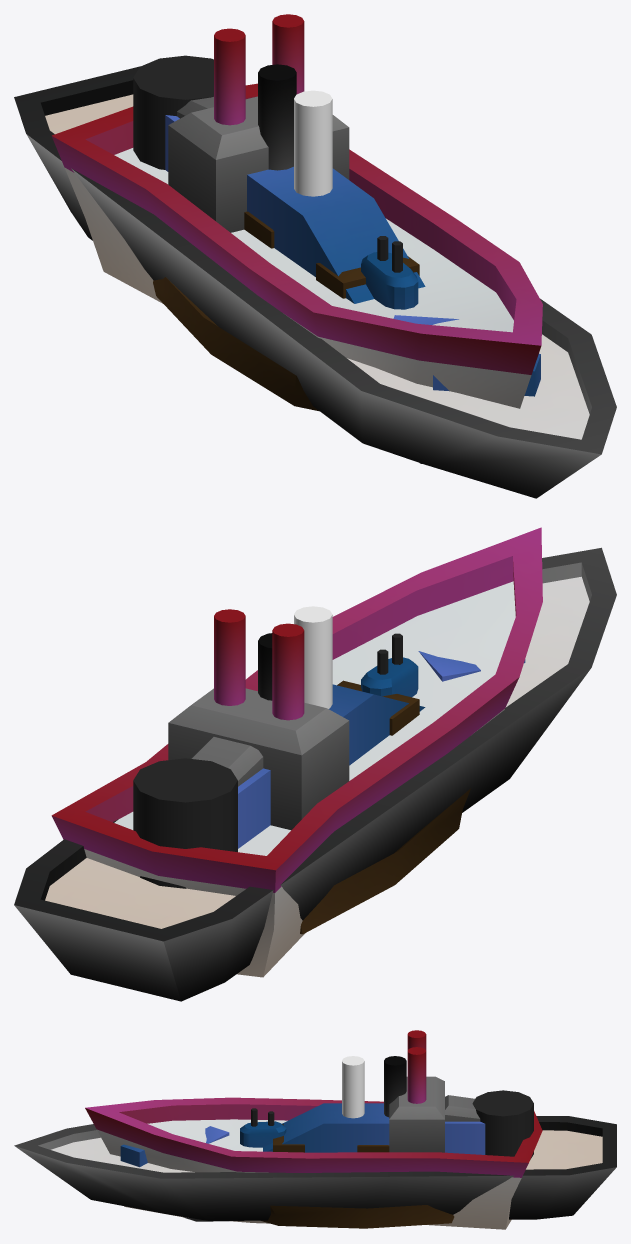
The model's file is ships.glb.
3 renders of one model, top to bottom at view 1: azimuth 30°, elevation 25°; view 2: azimuth 150°, elevation 25°; view 3: azimuth 270°, elevation 25°, orthographic. The views are drawn at different scales.
Parts seen in each view (by area): view 1: carrier, battleship, cruiser, submarine; view 2: carrier, battleship, cruiser, submarine; view 3: carrier, battleship, cruiser, submarine.
Part boxes in pixels (bbox=[...]): carrier: bbox=[14, 55, 616, 498]; battleship: bbox=[51, 14, 542, 408]; cruiser: bbox=[153, 277, 319, 411]; submarine: bbox=[361, 236, 421, 463]; carrier: bbox=[14, 547, 616, 1001]; battleship: bbox=[51, 527, 542, 977]; cruiser: bbox=[300, 788, 470, 934]; submarine: bbox=[361, 633, 418, 697]; carrier: bbox=[14, 1056, 616, 1220]; battleship: bbox=[85, 1030, 542, 1229]; cruiser: bbox=[261, 1205, 454, 1228]; submarine: bbox=[183, 1108, 286, 1221].
Bounding box in the file's own units: 1.01 × 1.25 × 3.89.
1 material, 1 textured.
